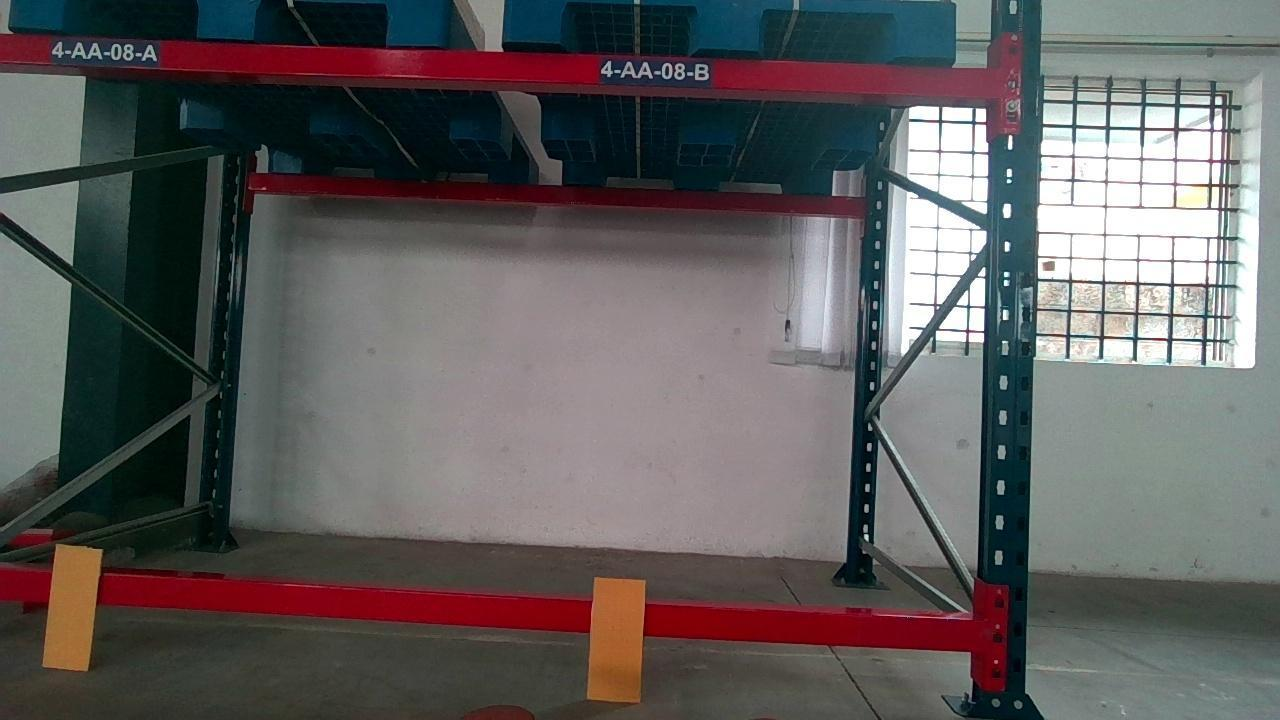h_rack: (0, 569, 980, 654), (0, 35, 1006, 103)
orange_strip: (587, 576, 644, 701), (42, 544, 99, 669)
small_pallet: (500, 0, 973, 57), (5, 0, 457, 40)
